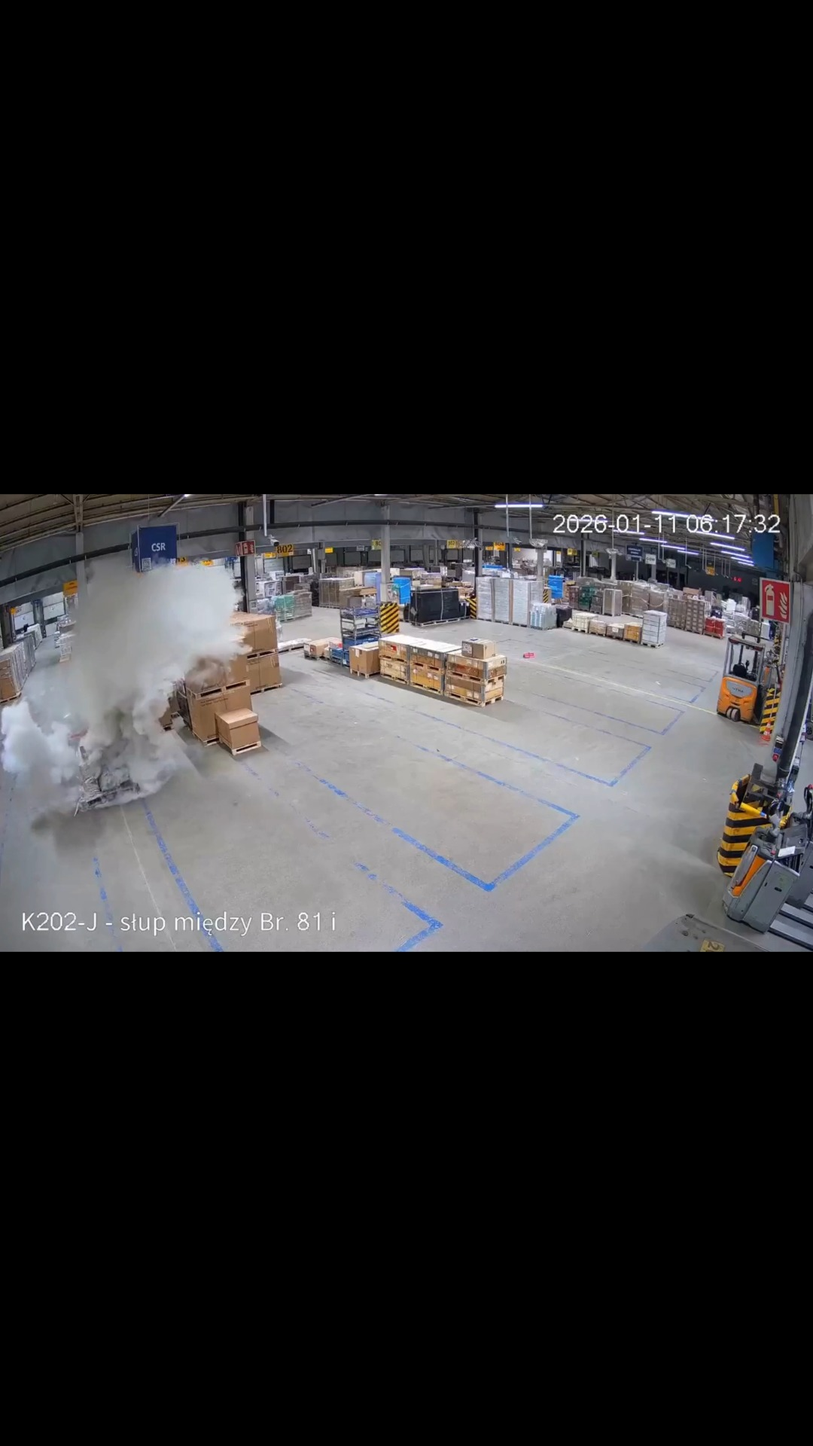smoke: (1, 559, 251, 810)
